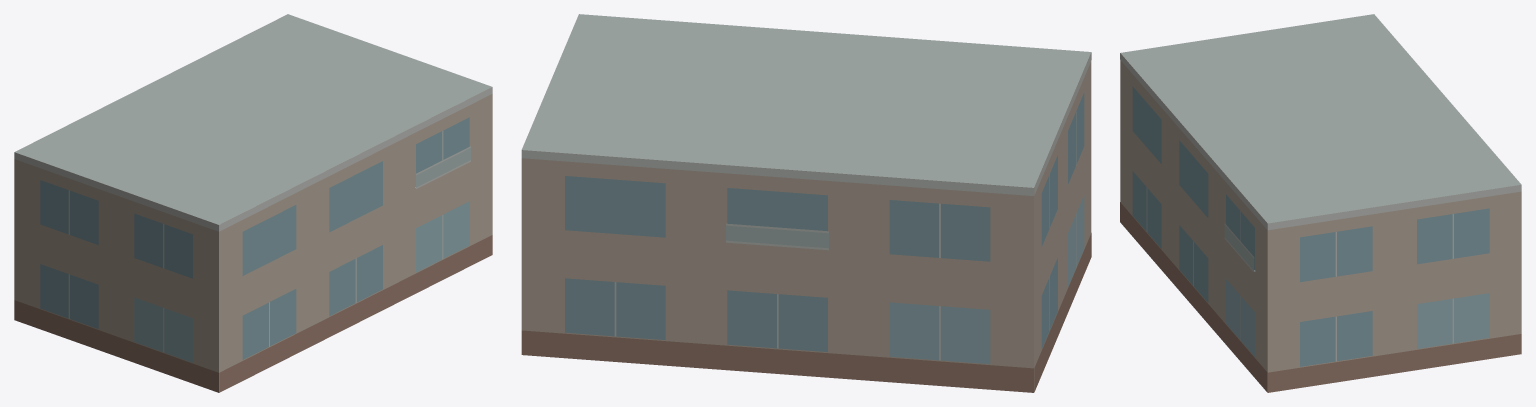
Rendered from survey-upis-32699611.glb.
3 views of the same model, side by side, from view 1: azimuth 30°, elevation 25°; view 2: azimuth 150°, elevation 25°; view 3: azimuth 270°, elevation 25° (orthographic). The views are drawn at different scales.
Visible parts, largest first — view 1: survey-upis-32699611.tmp; view 2: survey-upis-32699611.tmp; view 3: survey-upis-32699611.tmp.
Boxes of the visible parts, bbox=[...] form: survey-upis-32699611.tmp: bbox=[14, 14, 492, 392]; survey-upis-32699611.tmp: bbox=[521, 14, 1091, 392]; survey-upis-32699611.tmp: bbox=[1120, 14, 1521, 392].
Bounding box in the file's own units: 16.2 × 6.1 × 13.12.
